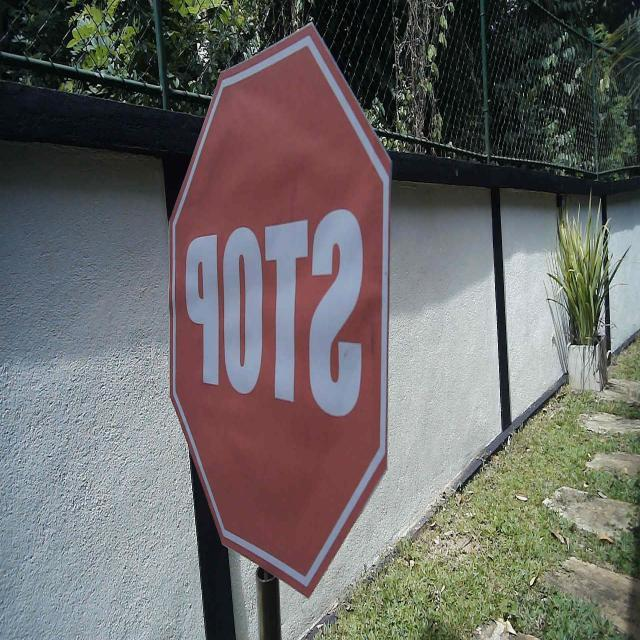stop: (166, 18, 394, 603)
